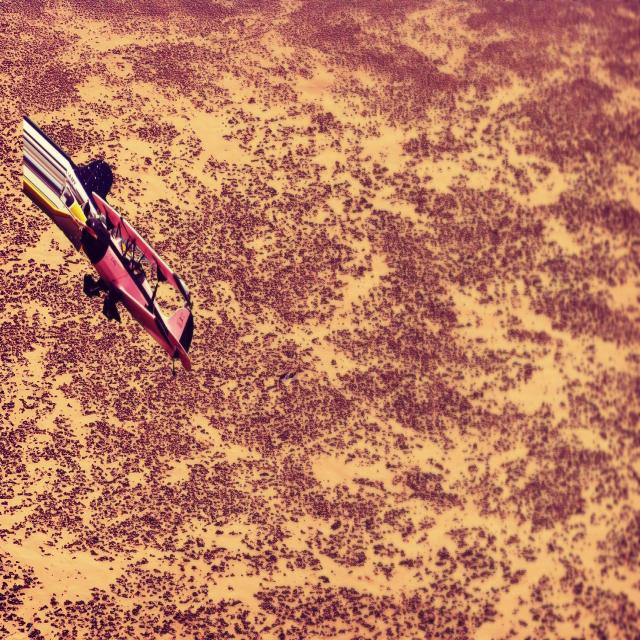airplane: (21, 113, 194, 376)
